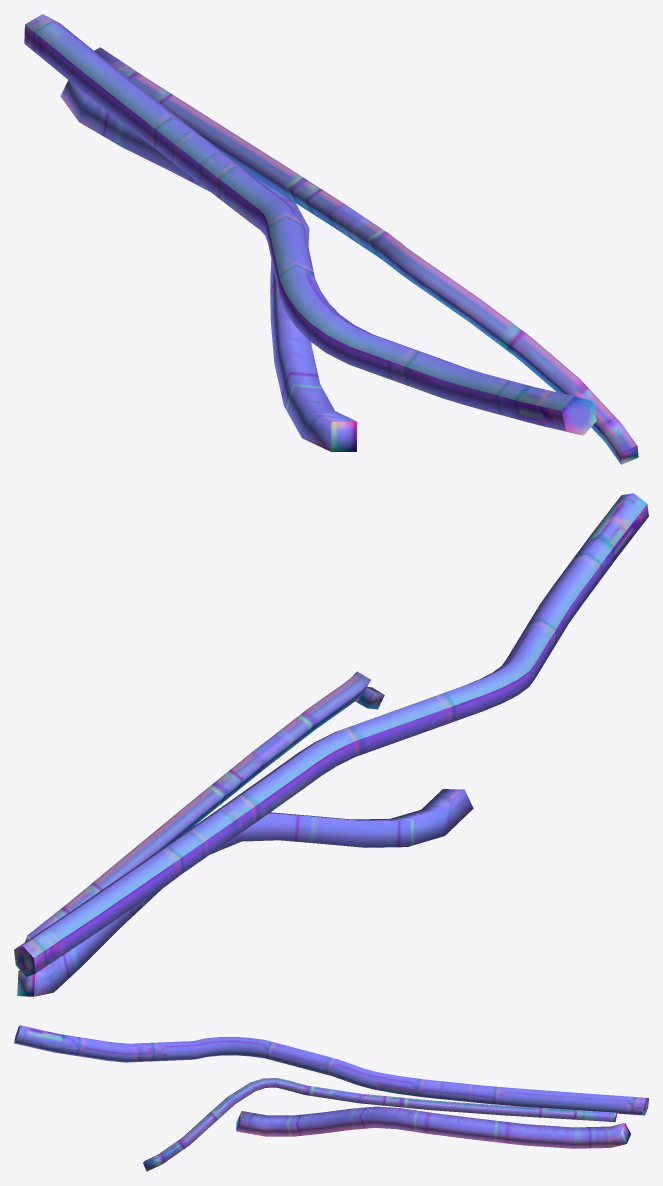
File: debris_cables_01.glb
3 renders of one model, top to bottom at view 1: azimuth 30°, elevation 25°; view 2: azimuth 150°, elevation 25°; view 3: azimuth 270°, elevation 25°, orthographic. The views are drawn at different scales.
Parts seen in each view (by area): view 1: ship_debris_05_part_26 (2), ship_debris_05_part_22 (1), ship_debris_05_part_23 (1); view 2: ship_debris_05_part_26 (2), ship_debris_05_part_23 (1), ship_debris_05_part_22 (1); view 3: ship_debris_05_part_26 (2), ship_debris_05_part_23 (1), ship_debris_05_part_22 (1).
Part boxes in pixels (x1=…): ship_debris_05_part_26 (2): x1=24, y1=14, x2=596, y2=435; ship_debris_05_part_22 (1): x1=94, y1=47, x2=638, y2=464; ship_debris_05_part_23 (1): x1=60, y1=80, x2=357, y2=451; ship_debris_05_part_26 (2): x1=14, y1=493, x2=648, y2=976; ship_debris_05_part_23 (1): x1=17, y1=789, x2=473, y2=996; ship_debris_05_part_22 (1): x1=25, y1=671, x2=384, y2=941; ship_debris_05_part_26 (2): x1=14, y1=1025, x2=648, y2=1115; ship_debris_05_part_23 (1): x1=236, y1=1106, x2=630, y2=1148; ship_debris_05_part_22 (1): x1=143, y1=1078, x2=617, y2=1171.
Size of the model in its own units: 1.26 by 1.05 by 5.45.
Materials: 1 (1 with a texture image).
